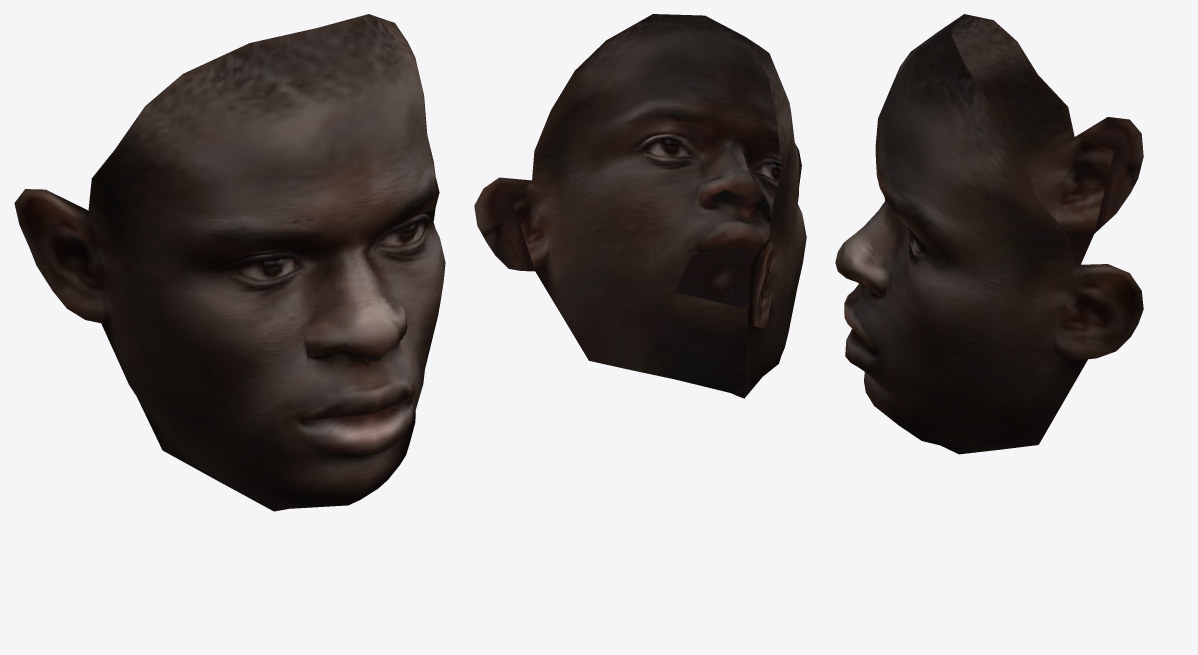
File: fra-kante.glb
3 renders of one model, left to right at view 1: azimuth 30°, elevation 25°; view 2: azimuth 150°, elevation 25°; view 3: azimuth 270°, elevation 25°, orthographic. The views are drawn at different scales.
Visible parts, largest first — view 1: fra-kante; view 2: fra-kante; view 3: fra-kante.
Boxes of the visible parts, box(x1,y1,x2,y2) form: fra-kante: box(14, 14, 445, 511); fra-kante: box(474, 14, 806, 398); fra-kante: box(835, 14, 1143, 454).
Bounding box in the file's own units: 0.172 × 0.31 × 0.1611.
1 material, 1 textured.
